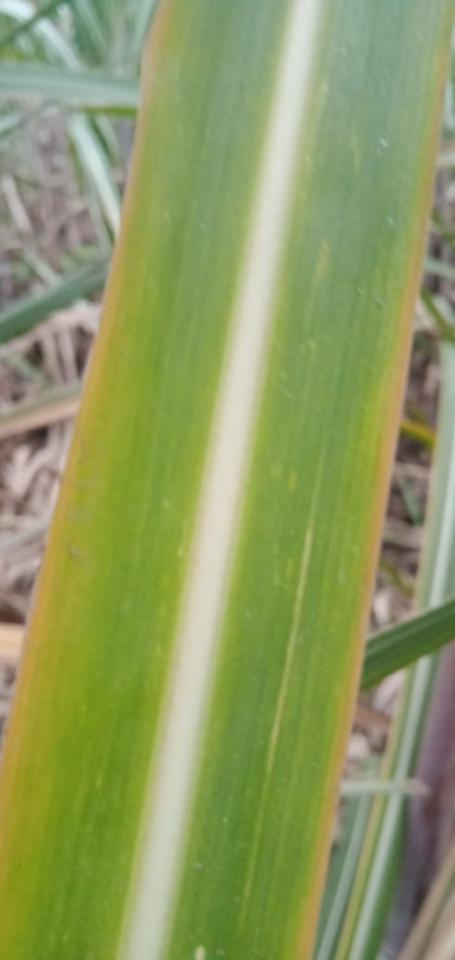Yellow: (0, 1, 169, 834), (297, 60, 448, 959)
